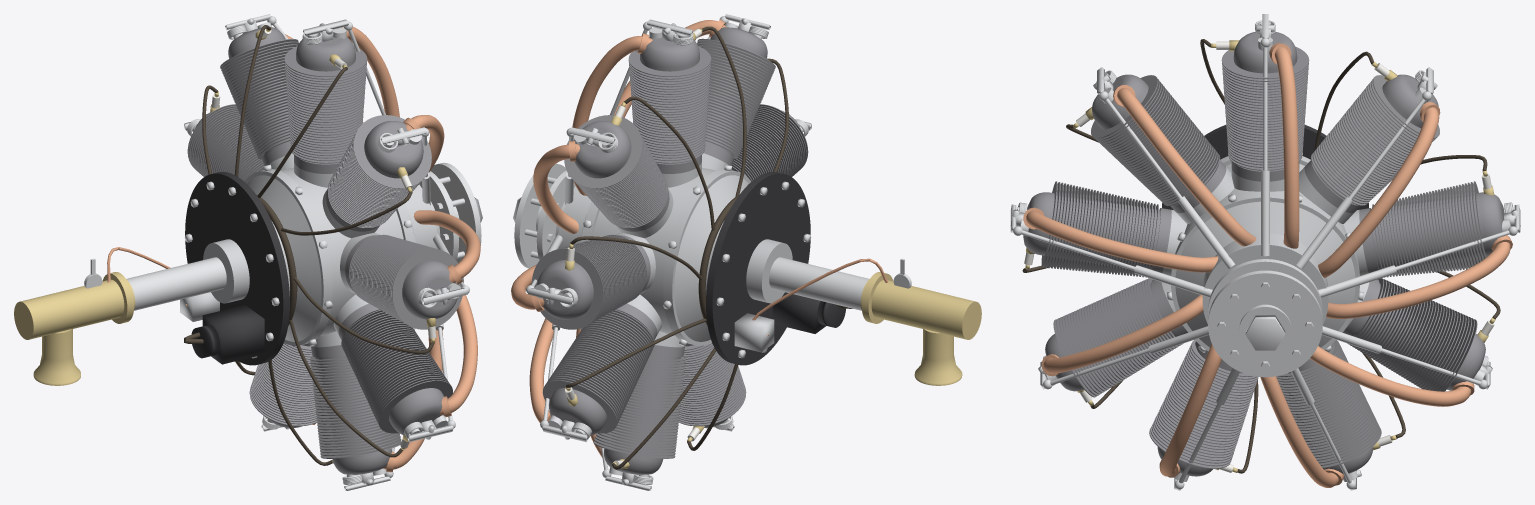
File: lerhone9c.glb
3 renders of one model, left to right at view 1: azimuth 30°, elevation 25°; view 2: azimuth 150°, elevation 25°; view 3: azimuth 270°, elevation 25°, orthographic. The views are drawn at different scales.
Visible parts, largest first — view 1: Placa, Cilindro7, Cilindro1, Carter, Cilindro8, Cilindro9, Carburador, Cilindro6, Cilindro2, Cilindro5, Cilindro3, Magneto (+20 smaller); view 2: Placa, Cilindro4, Cilindro1, Carter, Cilindro2, Cilindro3, Carburador, Cilindro5, Cilindro9, Cilindro6, Cilindro8, Ciguenal (+21 smaller); view 3: Cilindro2, Cilindro3, Cilindro4, Carter, Cilindro1, Cilindro9, Cilindro8, Cilindro7, PlatoDelantero, Cilindro5, Cilindro6, Tubo2 (+23 smaller).
Part boxes in pixels (<box>): Placa: <box>185,172,289,365</box>; Cilindro7: <box>338,303,452,435</box>; Cilindro1: <box>284,37,367,173</box>; Carter: <box>247,167,440,341</box>; Cilindro8: <box>345,234,463,329</box>; Cilindro9: <box>326,115,431,231</box>; Carburador: <box>14,272,135,385</box>; Cilindro6: <box>310,345,401,474</box>; Cilindro2: <box>220,27,298,165</box>; Cilindro5: <box>249,343,317,427</box>; Cilindro3: <box>187,104,264,181</box>; Magneto: <box>191,305,264,364</box>; Placa: <box>706,172,810,365</box>; Cilindro4: <box>542,303,657,435</box>; Cilindro1: <box>628,37,711,173</box>; Carter: <box>555,167,748,341</box>; Cilindro2: <box>564,115,669,231</box>; Cilindro3: <box>531,234,650,329</box>; Carburador: <box>860,272,981,385</box>; Cilindro5: <box>594,345,685,474</box>; Cilindro9: <box>697,27,775,165</box>; Cilindro6: <box>678,343,746,427</box>; Cilindro8: <box>731,104,808,181</box>; Ciguenal: <box>769,257,868,310</box>; Cilindro2: <box>1304,74,1439,213</box>; Cilindro3: <box>1359,181,1507,277</box>; Cilindro4: <box>1343,278,1485,391</box>; Carter: <box>1175,164,1355,347</box>; Cilindro1: <box>1221,31,1309,181</box>; Cilindro9: <box>1091,74,1226,213</box>; Cilindro8: <box>1023,181,1171,277</box>; Cilindro7: <box>1045,278,1187,397</box>; PlatoDelantero: <box>1208,270,1322,377</box>; Cilindro5: <box>1276,340,1381,474</box>; Cilindro6: <box>1149,340,1258,476</box>; Tubo2: <box>1318,102,1440,278</box>.
Size of the model in its own units: 1.01 by 0.921 by 0.9342.
